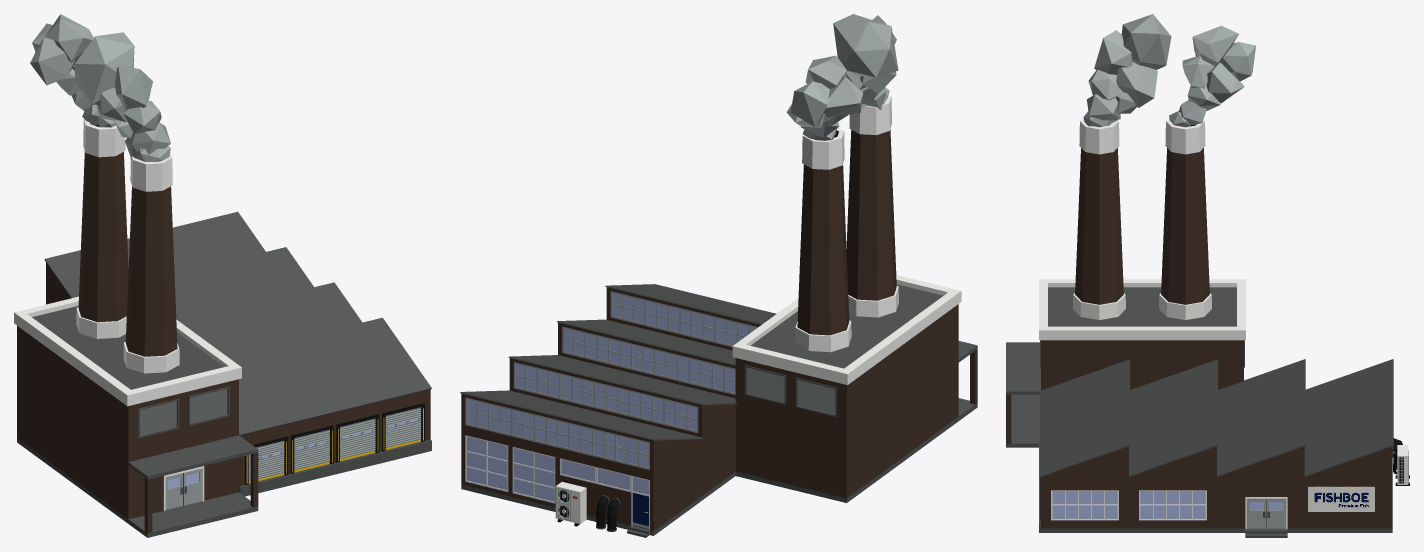
3 views of the same model, side by side, from view 1: azimuth 30°, elevation 25°; view 2: azimuth 150°, elevation 25°; view 3: azimuth 270°, elevation 25° (orthographic). The views are drawn at different scales.
Parts seen in each view (by area): view 1: Factory_0; view 2: Factory_0; view 3: Factory_0.
Boxes of the visible parts, bbox=[...] form: Factory_0: bbox=[14, 14, 431, 537]; Factory_0: bbox=[460, 14, 977, 537]; Factory_0: bbox=[1006, 14, 1409, 537].
Bounding box in the file's own units: 10.18 × 13.44 × 12.38.
Materials: 1 (1 with a texture image).
